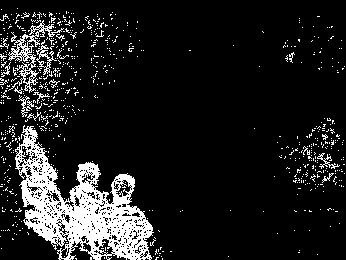person: (103, 172, 158, 260), (61, 159, 107, 256), (20, 162, 65, 260)
